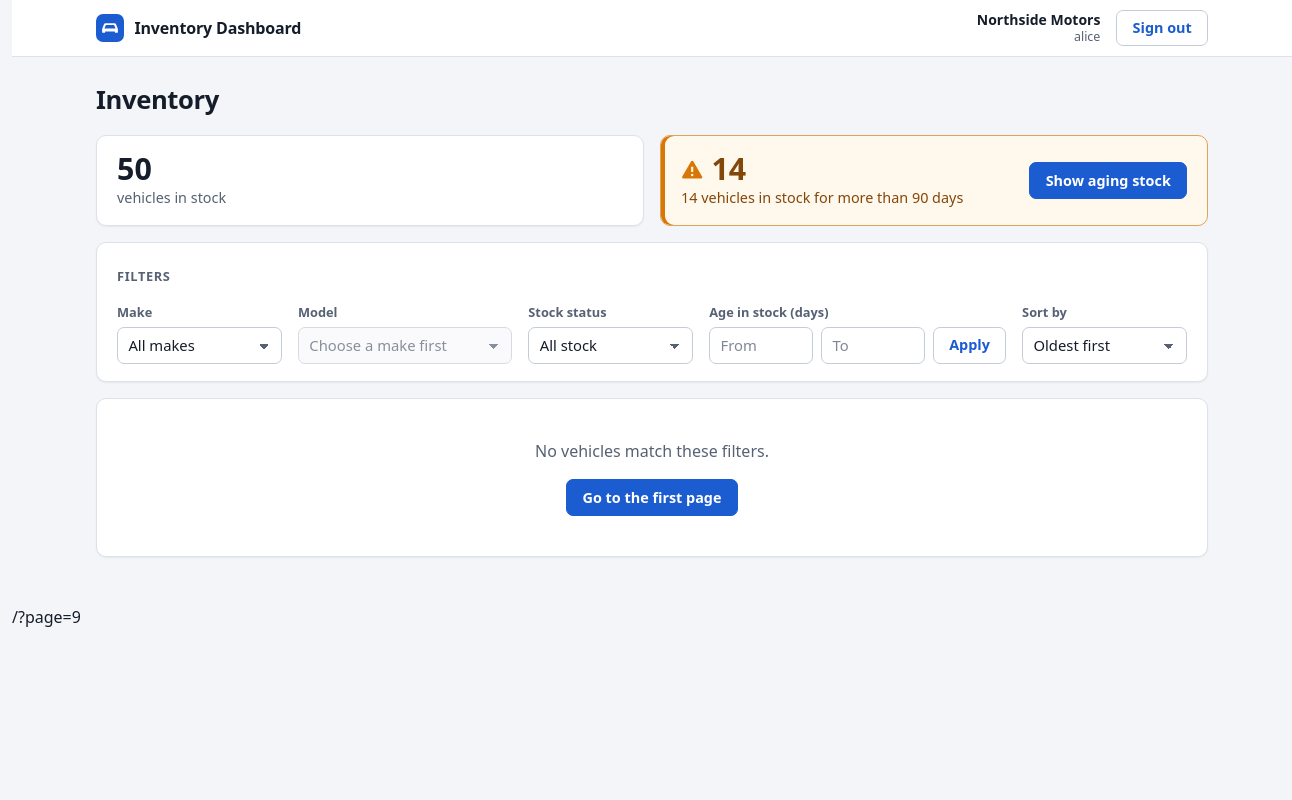
Scenario: the inventory list › offers a way back from a page that does not exist
Click the button "Go to the first page".
click(652, 498)  # box [566, 479, 738, 516]
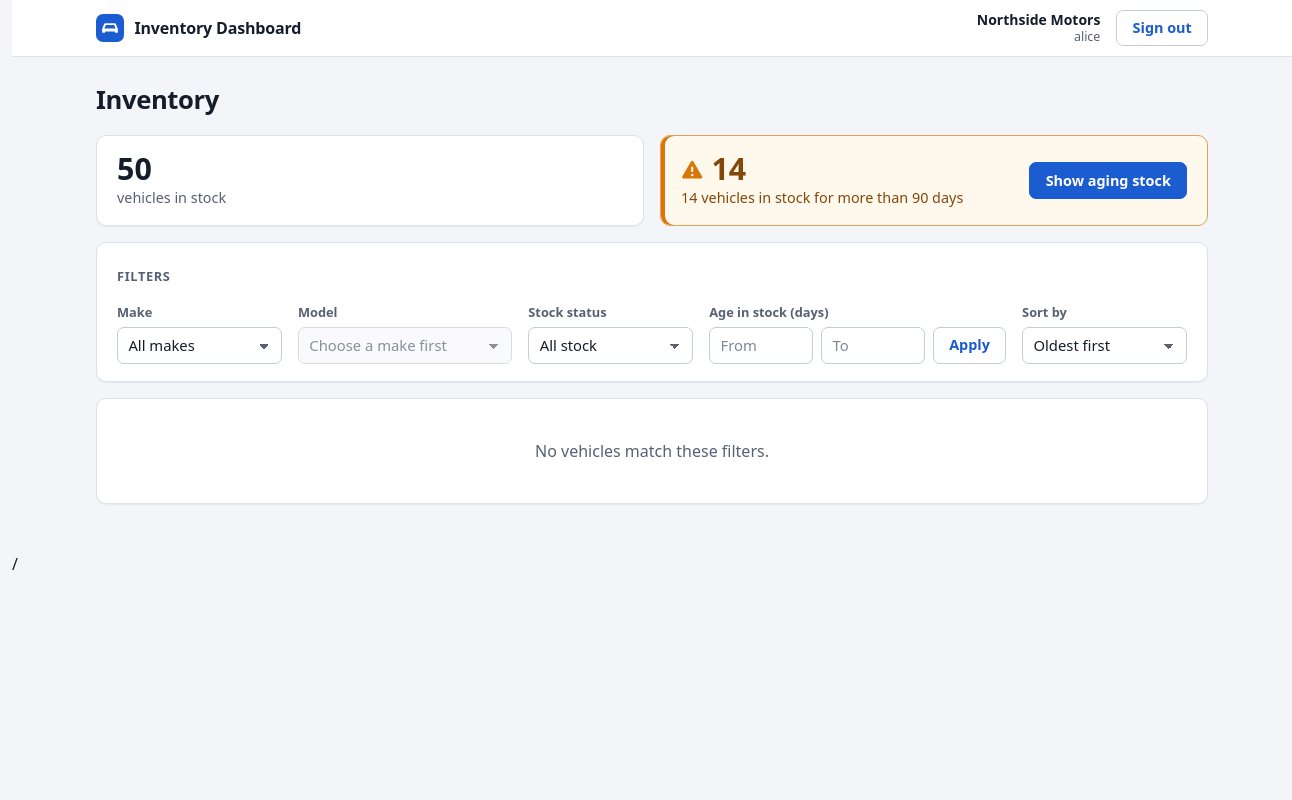
Expected: the heading "Inventory" is shown, [96, 82, 219, 117]
Now the text with test id "location" reads "/", box [12, 553, 18, 575]
